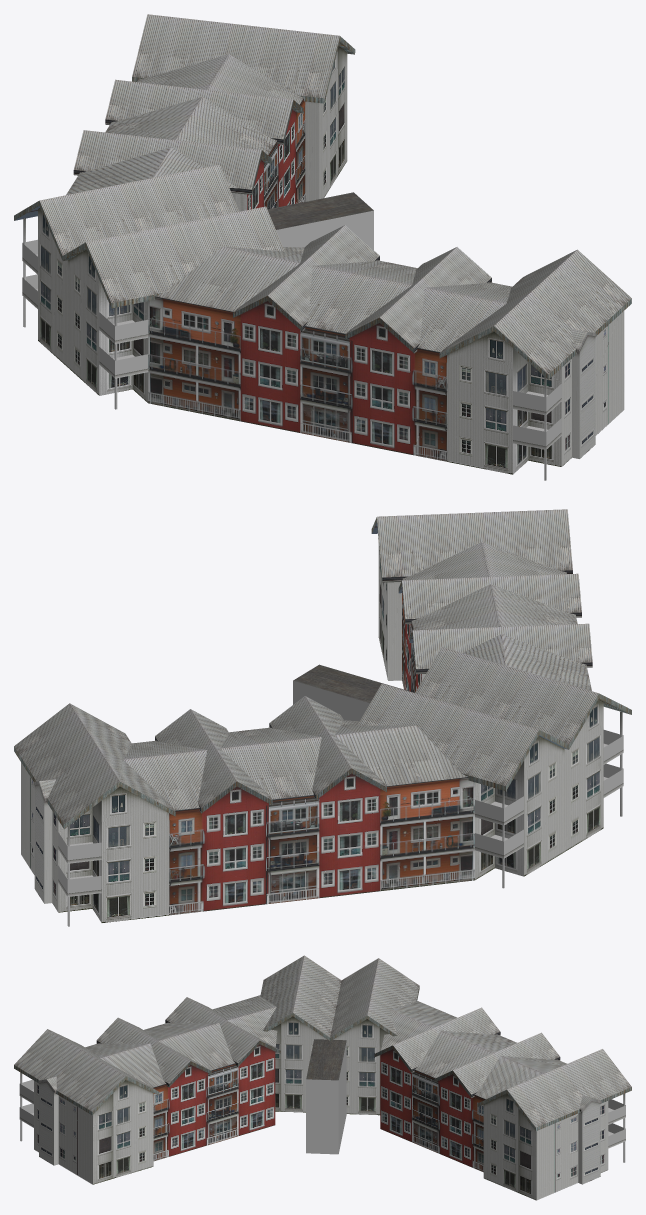
The model's file is SM_GenericBuilding_01.fbx.
3 views of the same model, one above another, from view 1: azimuth 30°, elevation 25°; view 2: azimuth 150°, elevation 25°; view 3: azimuth 270°, elevation 25° (orthographic). The views are drawn at different scales.
Visible parts, largest first — view 1: SM_GenericBuilding_01; view 2: SM_GenericBuilding_01; view 3: SM_GenericBuilding_01.
Boxes of the visible parts, left/top/right/bottom form: SM_GenericBuilding_01: left=14, top=14, right=631, bottom=480; SM_GenericBuilding_01: left=14, top=509, right=631, bottom=926; SM_GenericBuilding_01: left=14, top=955, right=631, bottom=1200.
Size of the model in its own units: 1517 by 485 by 2680.
